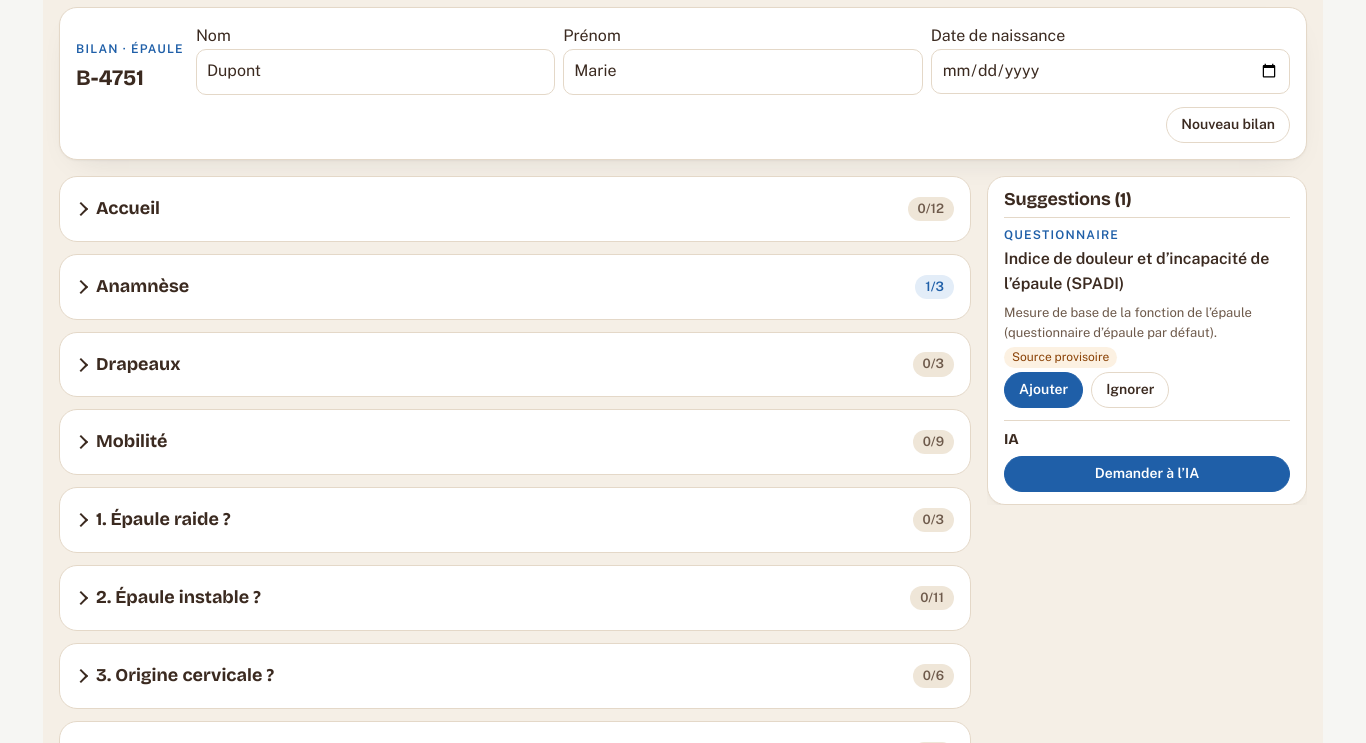
Scenario: Demander à l’IA › hors connexion
Click the button "Demander à l’IA" at (1147, 474), box top-left (1004, 456), bottom-right (1290, 492)
(page scrolled)
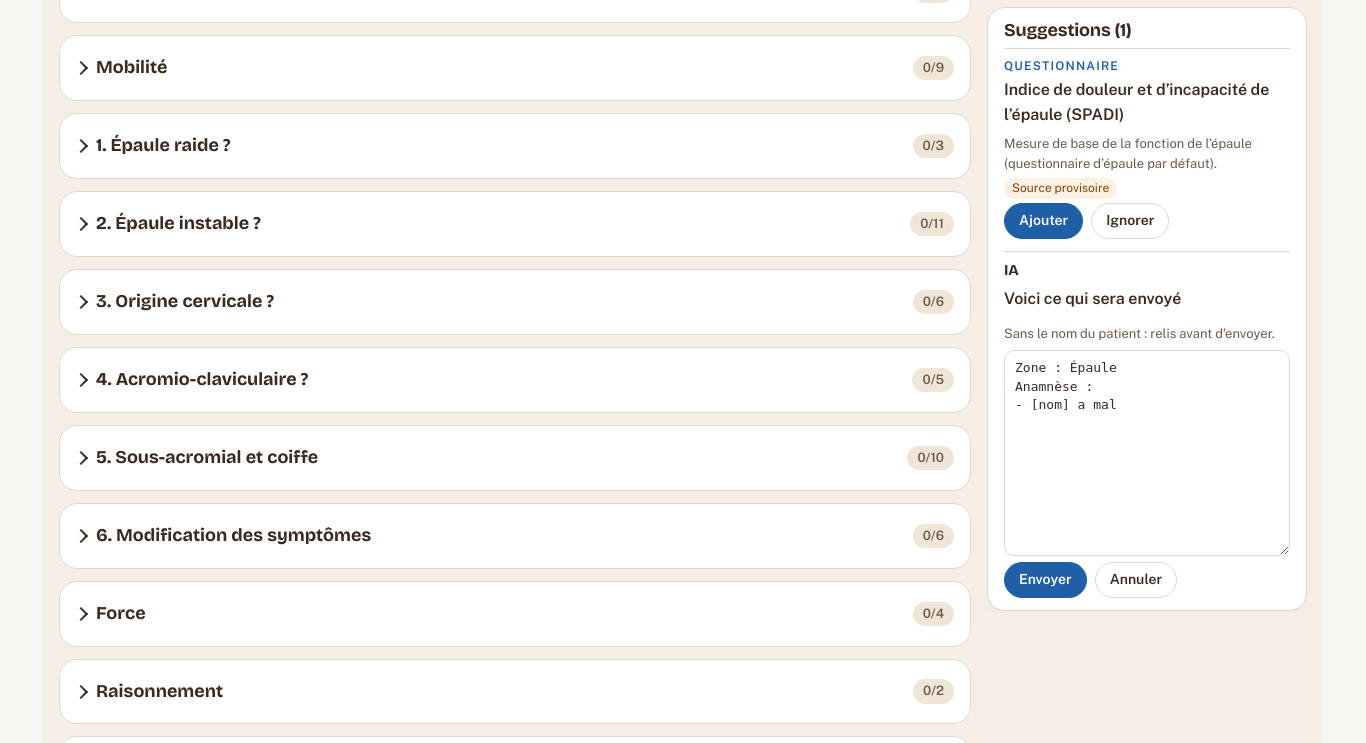
Click the button "Envoyer" at (1045, 580), box top-left (1004, 562), bottom-right (1087, 598)
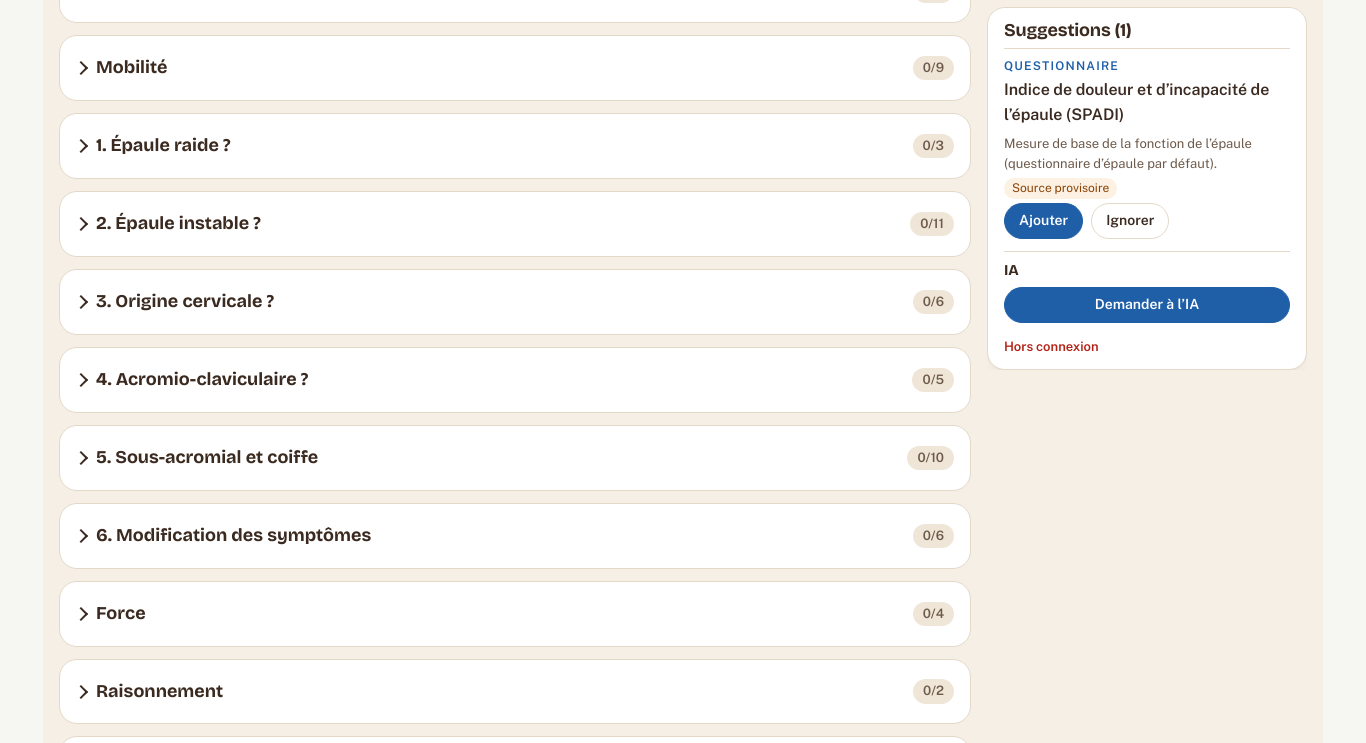
Result: the text "Hors connexion" is shown at top-left (1004, 339), bottom-right (1099, 354)
